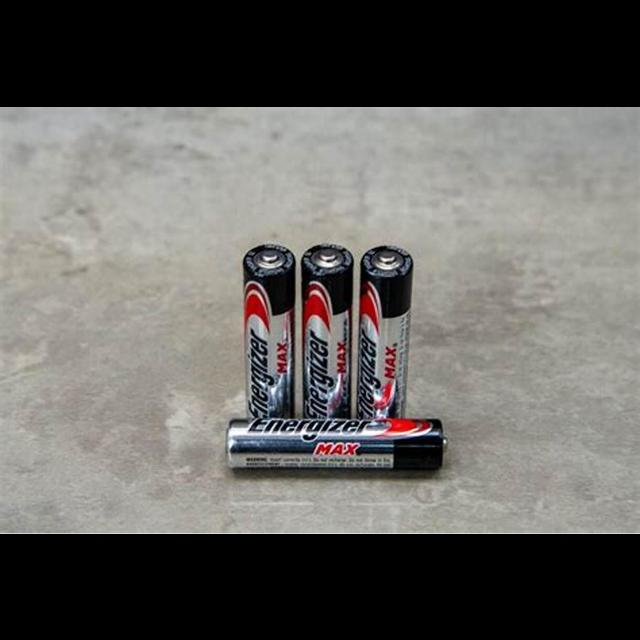bateria: (226, 417, 449, 475), (356, 245, 414, 419), (242, 242, 296, 418), (301, 242, 354, 420)
